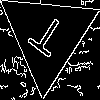T: (22, 11, 69, 67)
